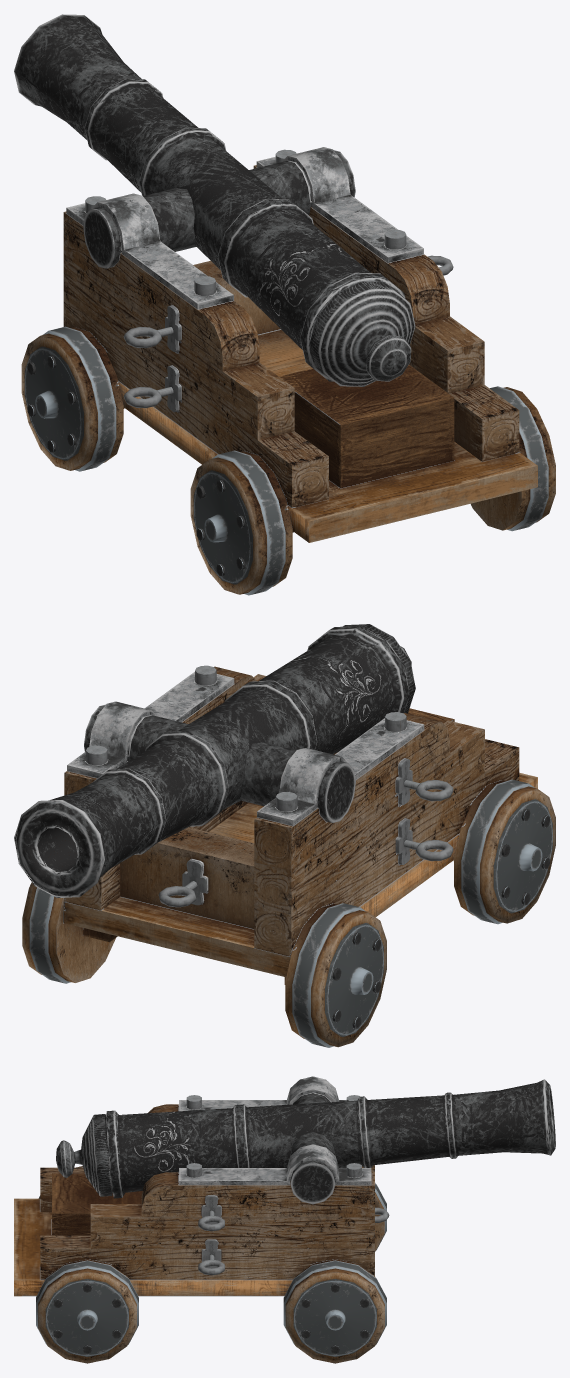
3 renders of one model, top to bottom at view 1: azimuth 30°, elevation 25°; view 2: azimuth 150°, elevation 25°; view 3: azimuth 270°, elevation 25°, orthographic. The views are drawn at different scales.
Visible parts, largest first — view 1: cannon_lo; view 2: cannon_lo; view 3: cannon_lo.
Boxes of the visible parts, box(x1,y1,x2,y2) form: cannon_lo: box(14, 14, 555, 595); cannon_lo: box(14, 624, 555, 1047); cannon_lo: box(14, 1076, 555, 1363).
Size of the model in its own units: 3.9 by 3.59 by 7.67.
1 material, 1 textured.
